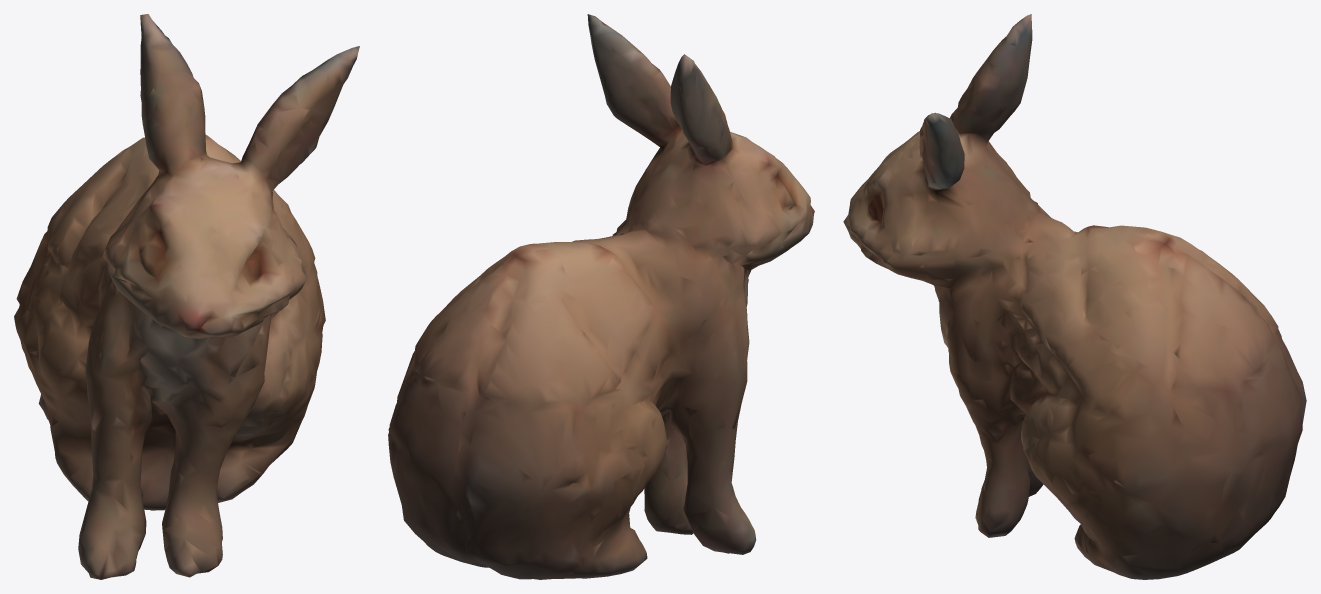
Rendered from rabbit.glb.
3 renders of one model, left to right at view 1: azimuth 30°, elevation 25°; view 2: azimuth 150°, elevation 25°; view 3: azimuth 270°, elevation 25°, orthographic. The views are drawn at different scales.
Parts seen in each view (by area): view 1: geometry_0; view 2: geometry_0; view 3: geometry_0.
Part boxes in pixels (<box>): geometry_0: <box>14,14,359,579</box>; geometry_0: <box>388,14,814,579</box>; geometry_0: <box>843,14,1306,579</box>.
Bounding box in the file's own units: 0.5908 × 1.01 × 0.8393.
